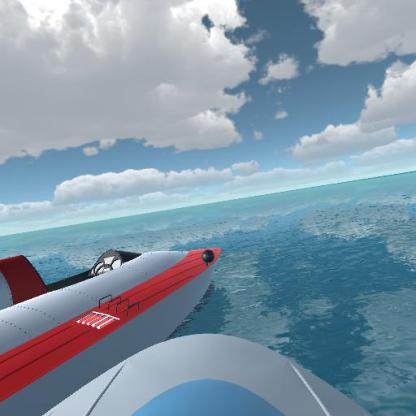usv3: (0, 244, 247, 404)
